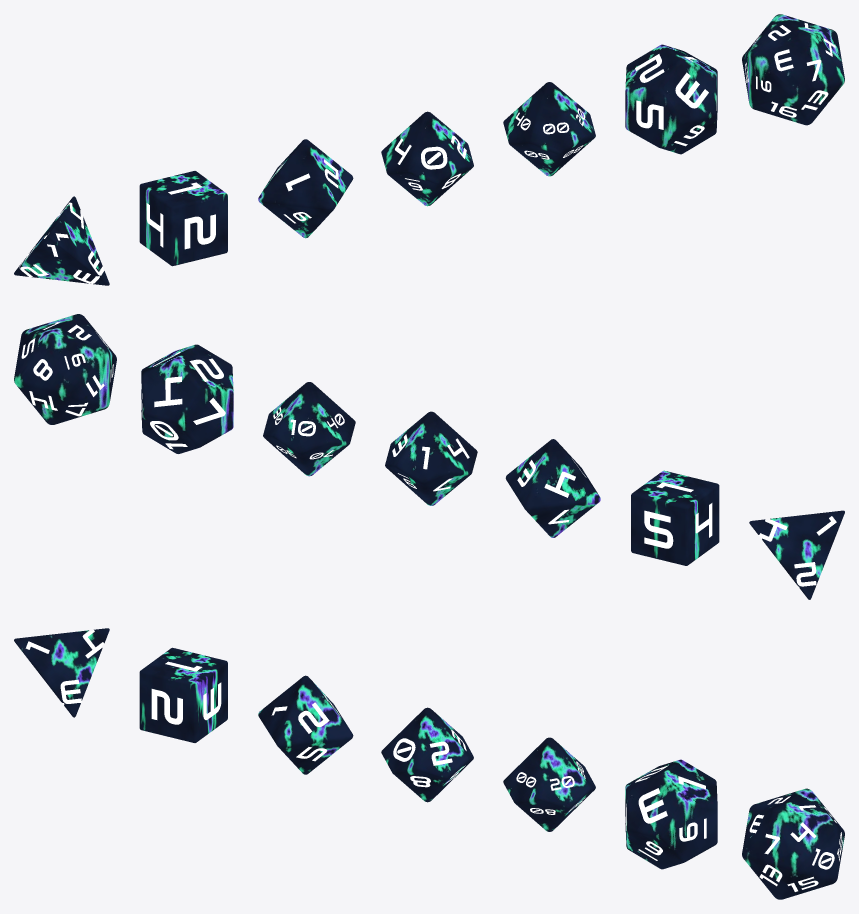
File: aurora.glb
The picture shows the model from 3 angles, top to bottom: view 1: azimuth 30°, elevation 25°; view 2: azimuth 150°, elevation 25°; view 3: azimuth 330°, elevation 25°; orthographic projection.
Parts seen in each view (by area): view 1: d20, d12, d6, d100, d10, d8, d4; view 2: d20, d12, d6, d100, d10, d8, d4; view 3: d20, d12, d6, d8, d10, d100, d4.
Boxes of the visible parts, x1,y1,x2,y2 form: d20: [742, 14, 844, 125]; d12: [625, 44, 717, 154]; d6: [139, 171, 227, 266]; d100: [503, 82, 595, 176]; d10: [381, 111, 473, 206]; d8: [258, 139, 353, 238]; d4: [14, 196, 109, 285]; d20: [14, 314, 116, 424]; d12: [141, 344, 233, 453]; d6: [631, 470, 719, 565]; d100: [263, 382, 355, 476]; d10: [385, 411, 477, 505]; d8: [505, 439, 600, 537]; d4: [749, 510, 844, 599]; d20: [742, 788, 844, 899]; d12: [625, 759, 717, 869]; d6: [139, 647, 227, 742]; d8: [258, 675, 353, 774]; d10: [381, 707, 473, 802]; d100: [503, 737, 595, 831]; d4: [14, 628, 109, 717].
Bounding box in the file's own units: 21.14 × 2.47 × 2.47.
14 materials, 7 textured.
